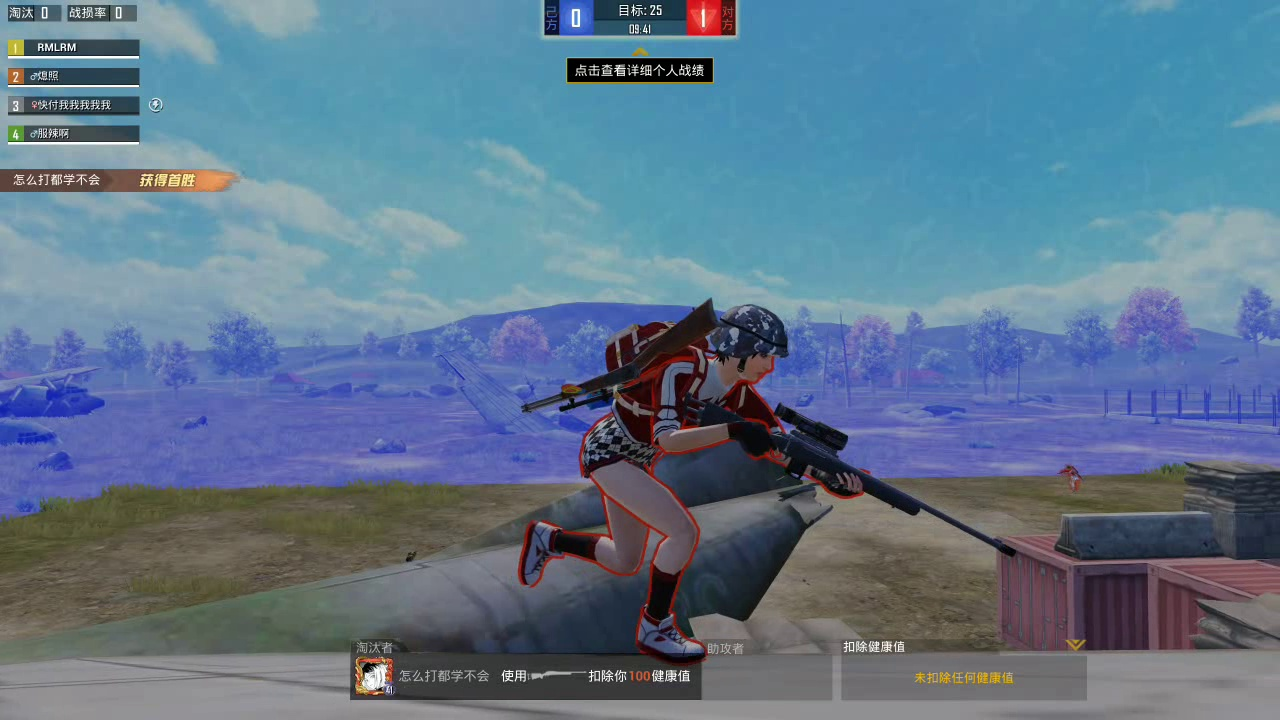enemy: (532, 303, 804, 657), (1063, 459, 1086, 495)
